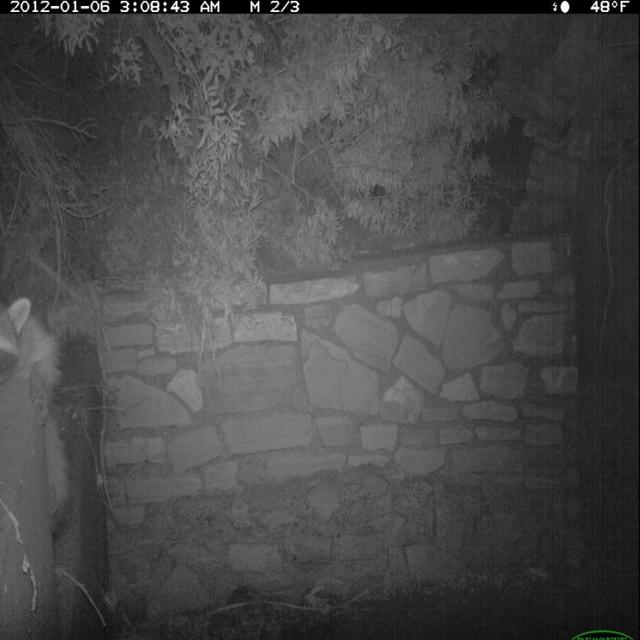raccoon: (1, 287, 80, 547)
